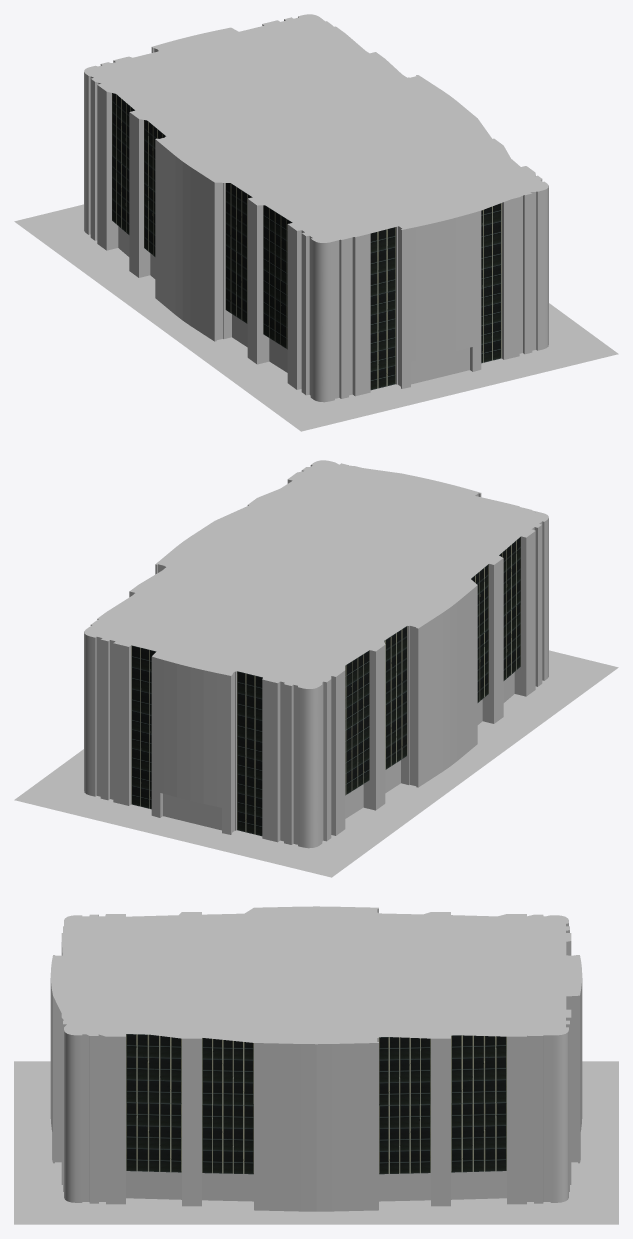
3 views of the same model, one above another, from view 1: azimuth 30°, elevation 25°; view 2: azimuth 150°, elevation 25°; view 3: azimuth 270°, elevation 25° (orthographic). The views are drawn at different scales.
Visible parts, largest first — view 1: M-018; view 2: M-018; view 3: M-018.
Boxes of the visible parts, bbox=[...] form: M-018: bbox=[14, 14, 618, 431]; M-018: bbox=[14, 460, 618, 877]; M-018: bbox=[14, 906, 618, 1224].
Size of what is drawn, in the model's own units: 46 by 22 by 72.
